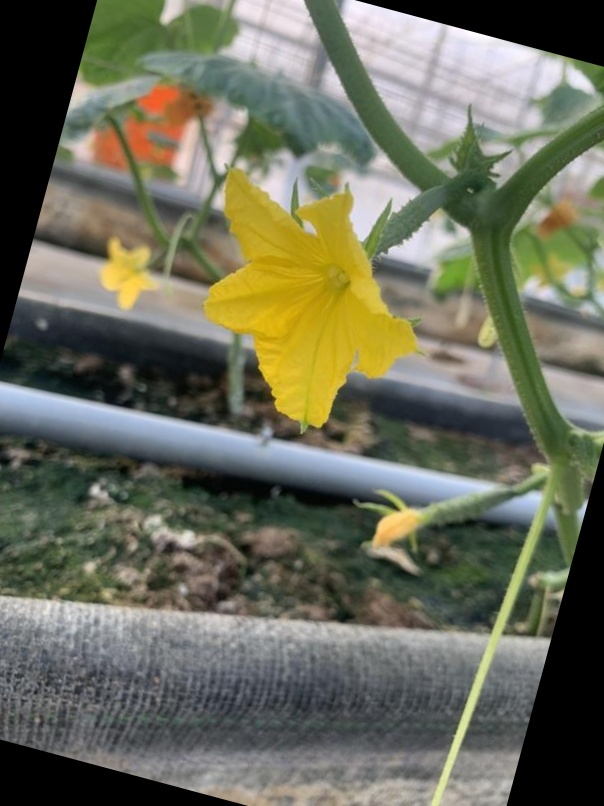mature: (185, 137, 488, 436)
